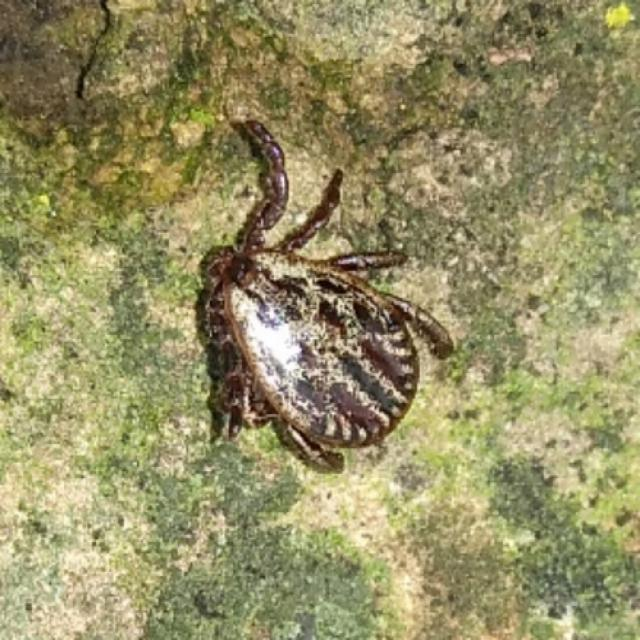Dermacentor Reticulatus-M: (193, 120, 457, 468)
